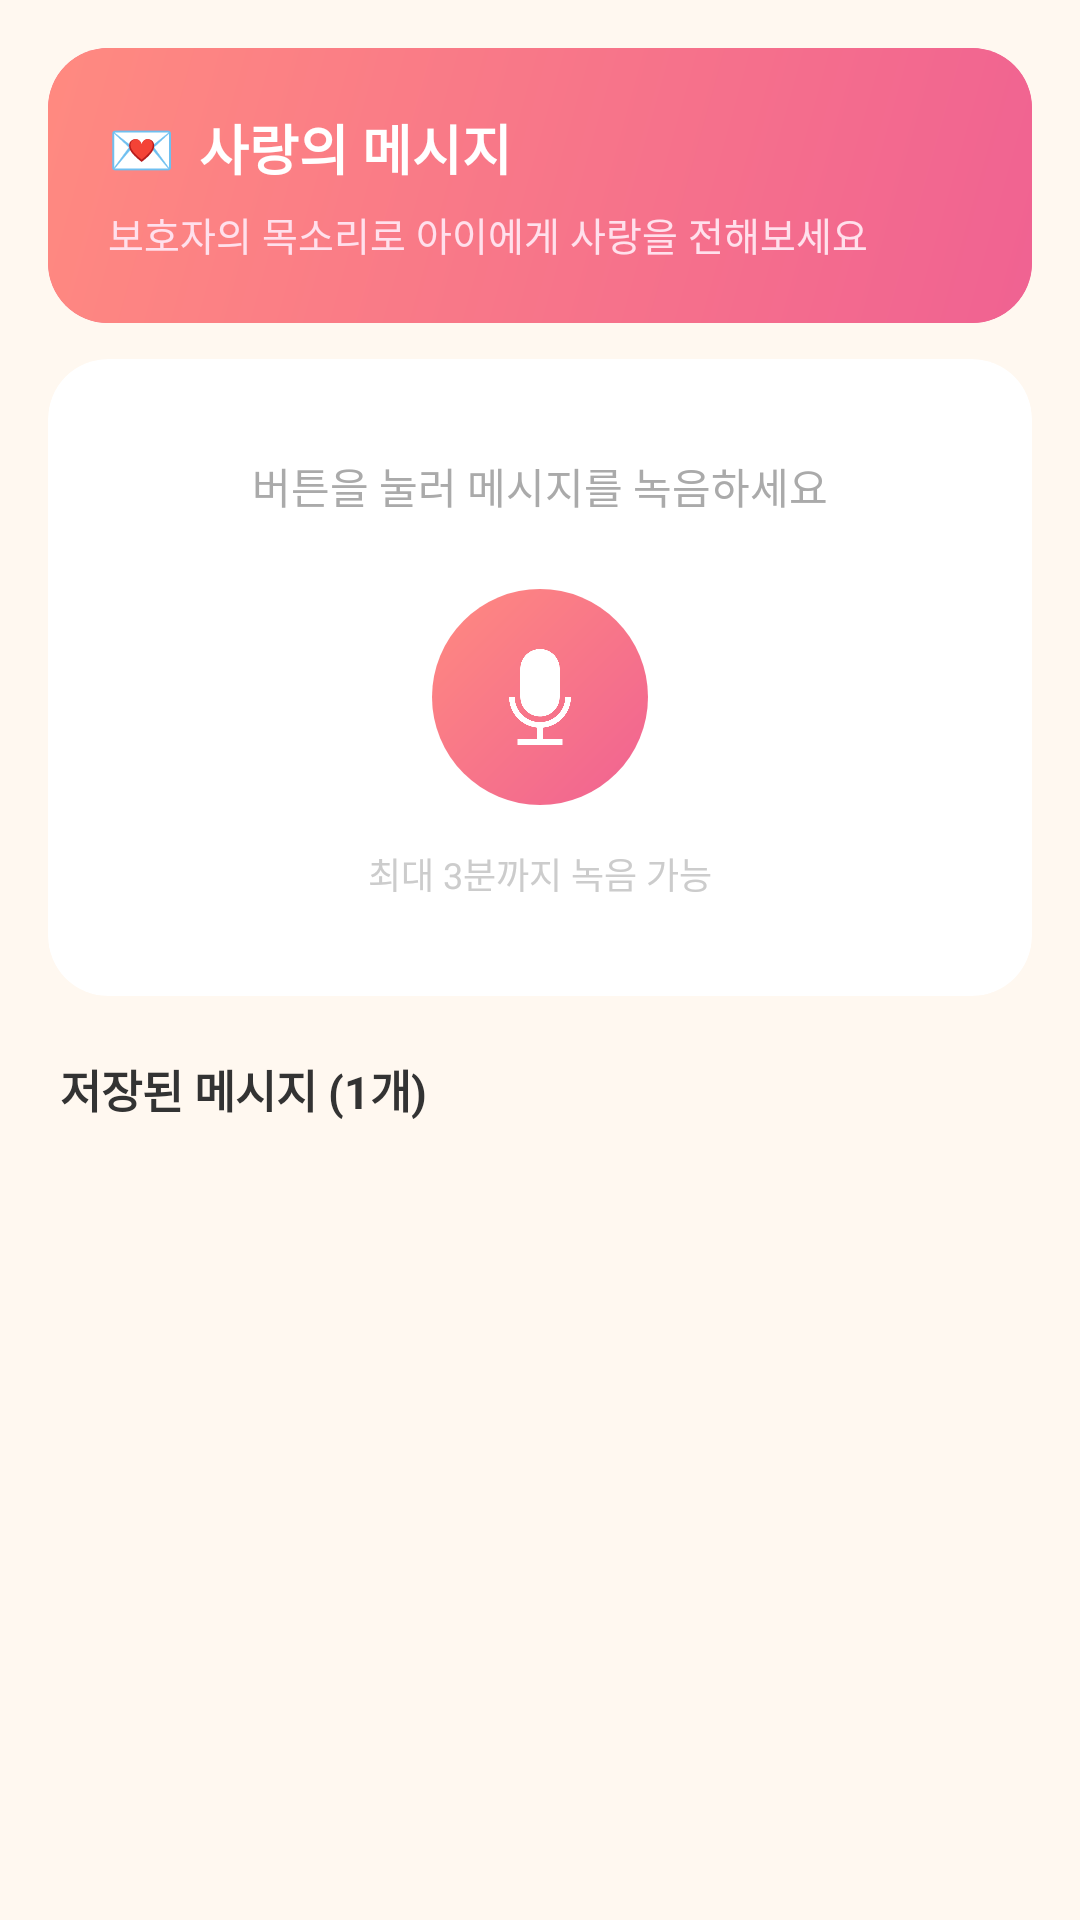

Locate icon controls on the screen. Image size 1080x1920, boxes as (x1, y1, x2, y2).
mic: (509, 649, 571, 745)
